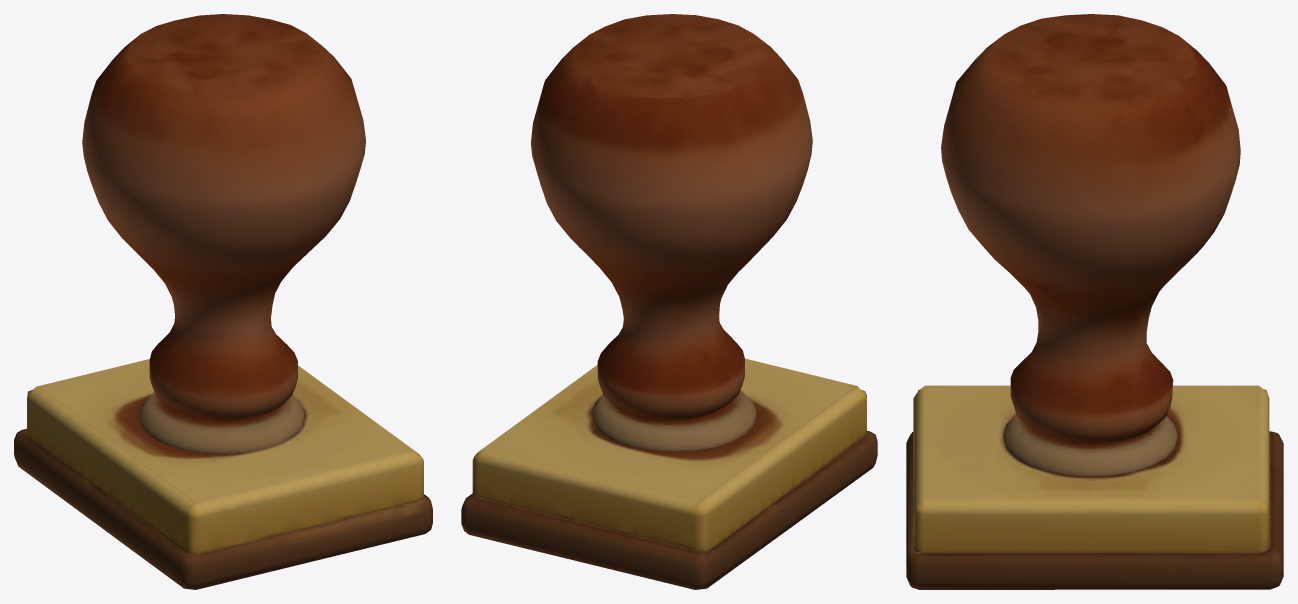
File: postage-stamp.obj
3 renders of one model, left to right at view 1: azimuth 30°, elevation 25°; view 2: azimuth 150°, elevation 25°; view 3: azimuth 270°, elevation 25°, orthographic. The views are drawn at different scales.
Size of the model in its own units: 0.0878 by 0.15 by 0.1083.
Materials: 1 (1 with a texture image).
